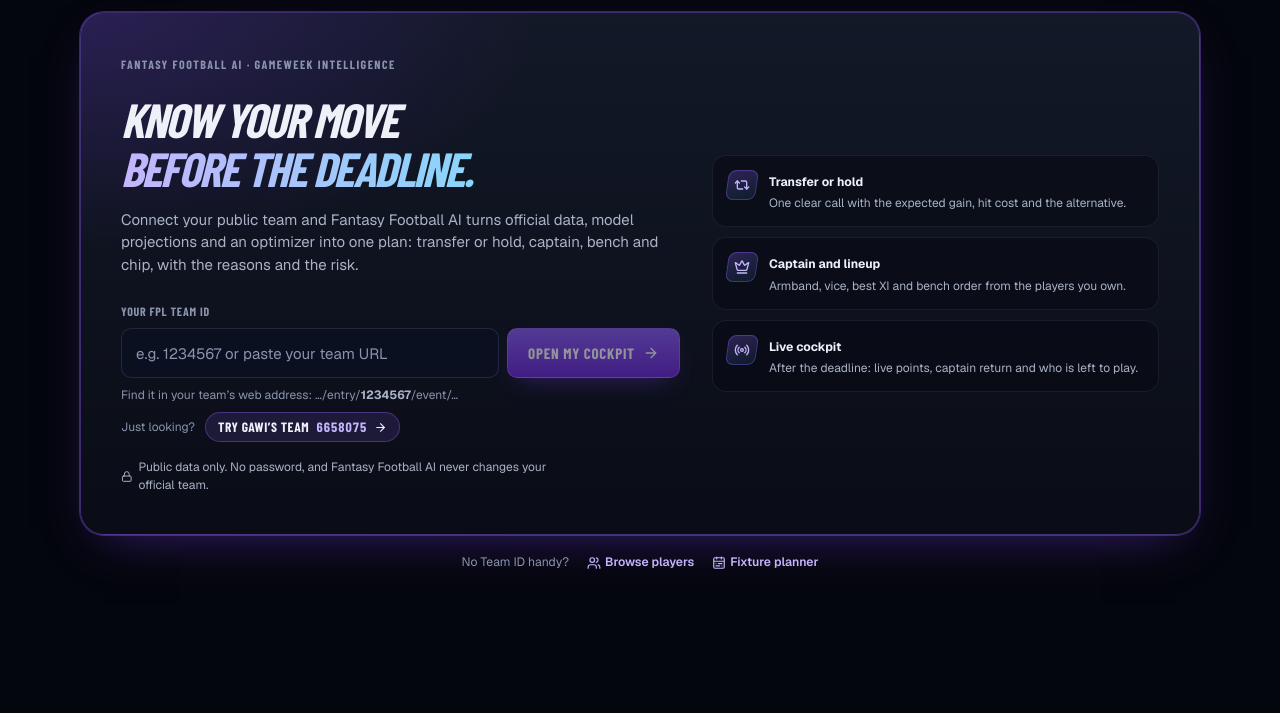
Test: connects from a pasted team URL
The image size is (1280, 713).
Type "https://fantasy.example/entry/4242/event/6" into the field labelled "Your FPL Team ID" at {"x": 310, "y": 353}, box [121,328,499,378]
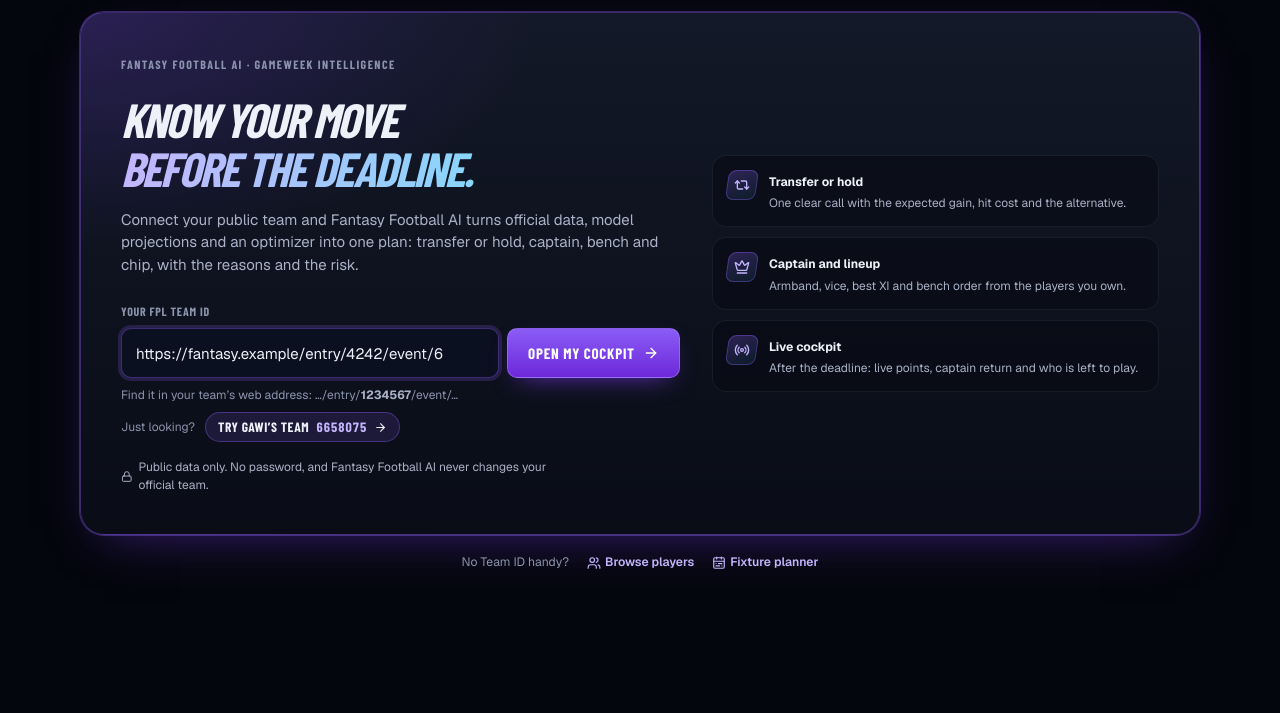
Click the button "Open my cockpit" at {"x": 594, "y": 353}, box [507,328,680,378]
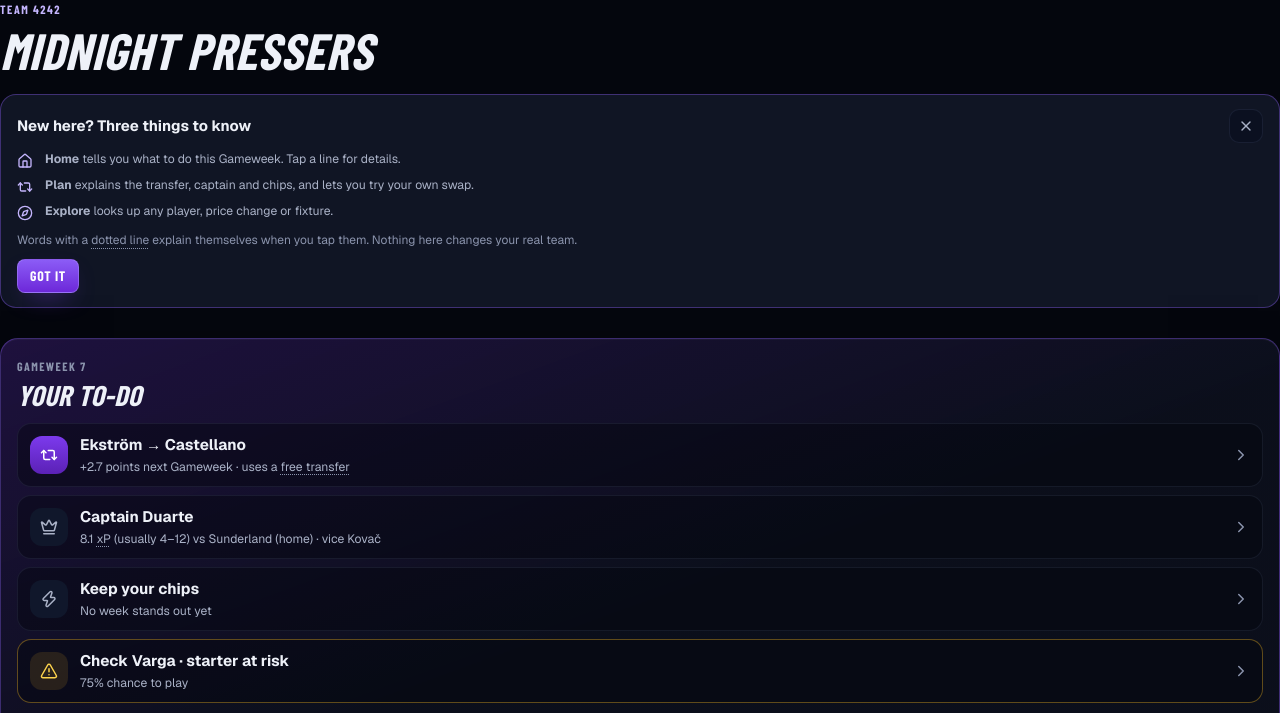
Expected: the heading "Midnight Pressers" is shown, [0,26,373,74]
